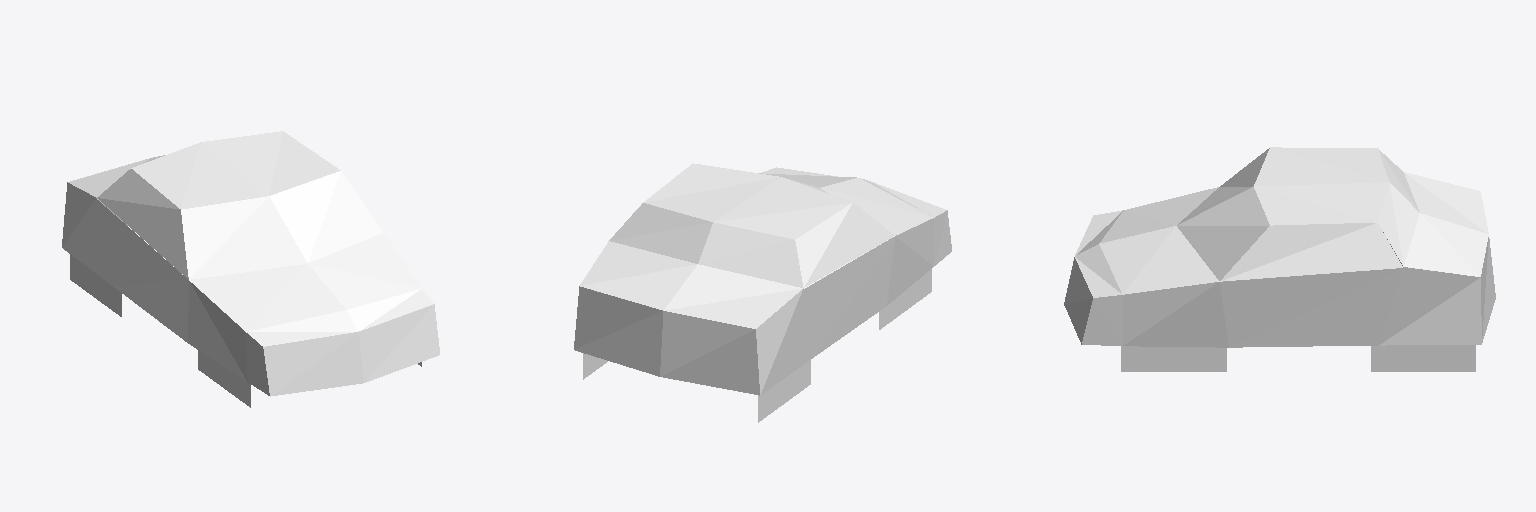
The model's file is SUB_CAR_ORANGE.obj.
3 renders of one model, left to right at view 1: azimuth 30°, elevation 25°; view 2: azimuth 150°, elevation 25°; view 3: azimuth 270°, elevation 25°, orthographic.
Visible parts, largest first — view 1: default; view 2: default; view 3: default.
Boxes of the visible parts, x1=… form: default: x1=62, y1=131, x2=439, y2=407; default: x1=574, y1=163, x2=951, y2=422; default: x1=1064, y1=147, x2=1495, y2=371.
Bounding box in the file's own units: 12 × 8.69 × 23.06.